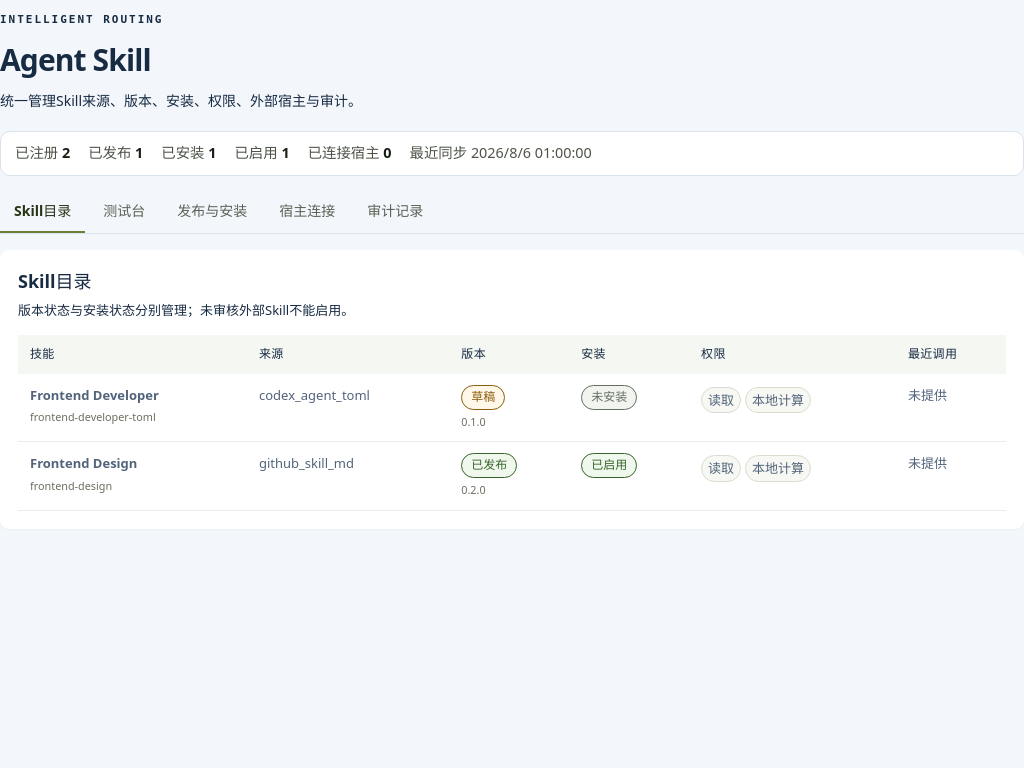
Scenario: Agent Skill management UI › provides a shortcut from an unavailable Skill to release management
Click the button "测试台" at [124, 212], box [89,190,159,233]
(page scrolled)
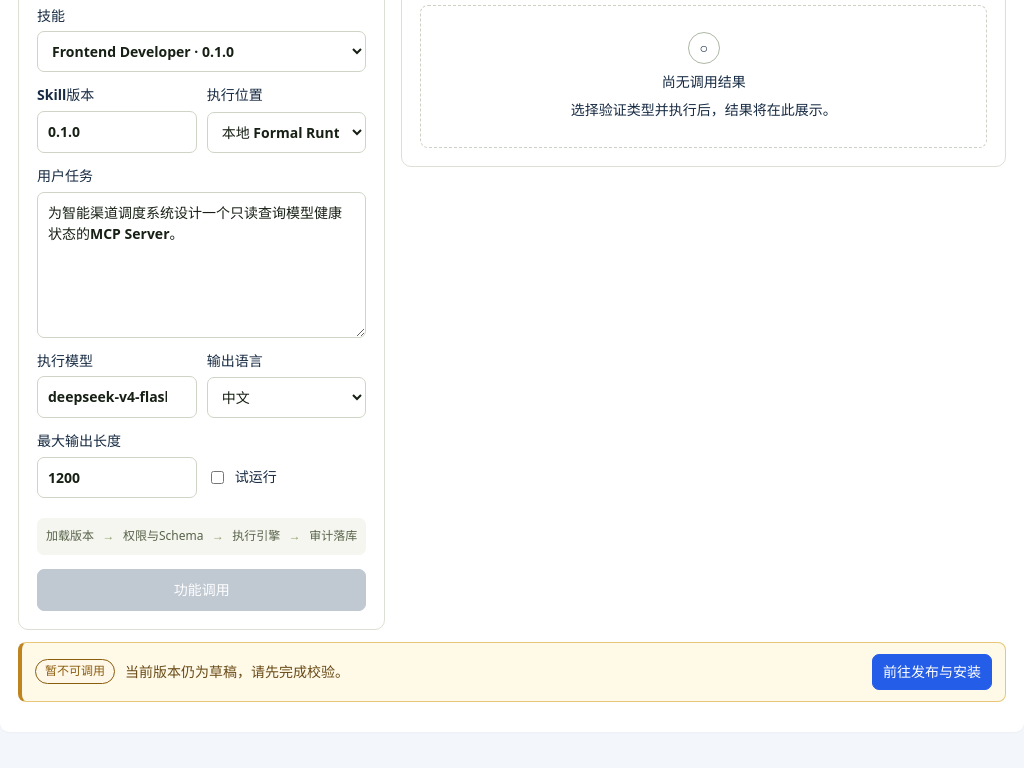
Click the button "前往发布与安装" at [932, 672], box [872,654,992,690]
(page scrolled)
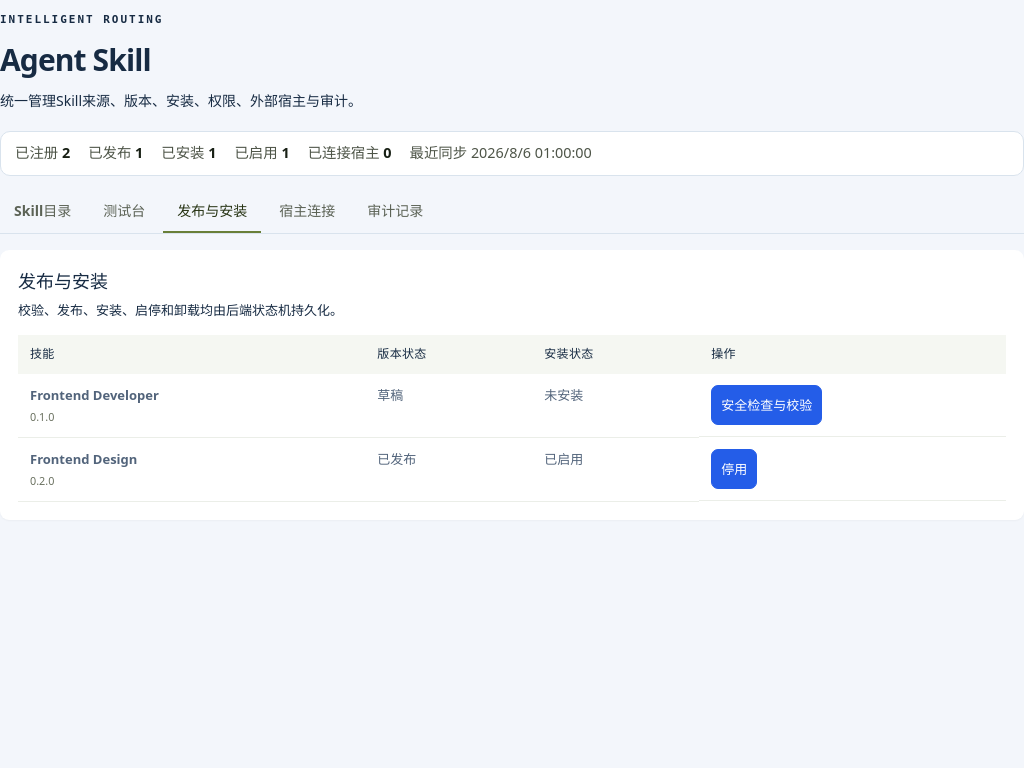
Now the heading "发布与安装" is shown, box [18,269,108,293]
